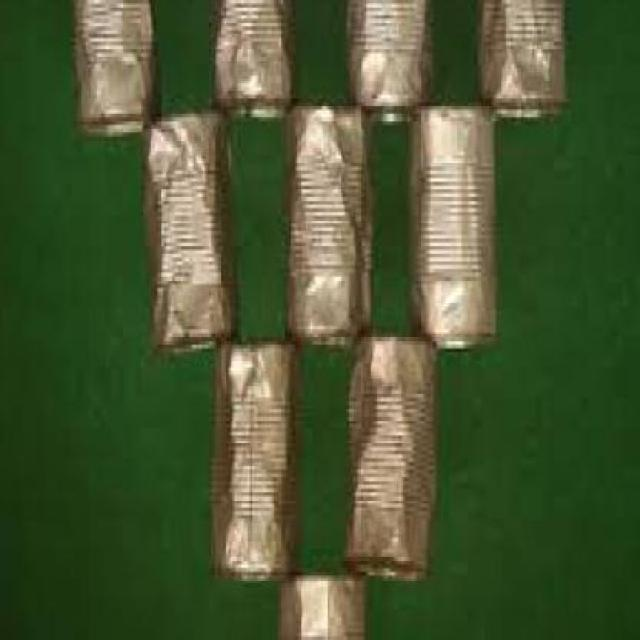METAL: (147, 110, 239, 364), (285, 102, 377, 348), (409, 106, 500, 352), (351, 341, 442, 584), (218, 345, 302, 583), (76, 5, 159, 140), (474, 4, 569, 121), (208, 4, 298, 125), (350, 4, 436, 125), (280, 578, 371, 638)
